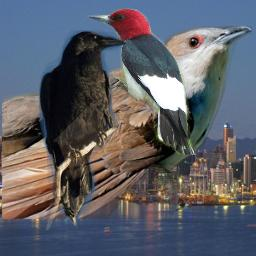Crow: (39, 30, 129, 230)
Cuckoo: (2, 26, 252, 219)
Woodpecker: (86, 8, 198, 155)
